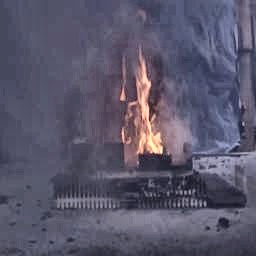fire: (113, 46, 164, 158)
